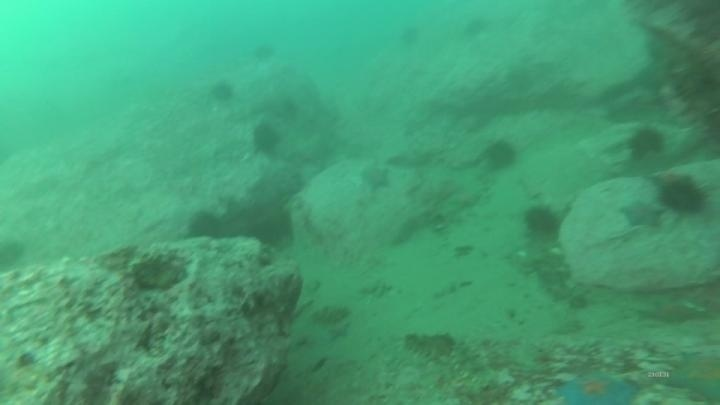echinus: (658, 175, 709, 218), (521, 203, 563, 239), (626, 125, 667, 161), (482, 137, 520, 174), (185, 209, 226, 243), (249, 121, 283, 157), (0, 236, 28, 274), (208, 78, 237, 106), (461, 15, 491, 41), (397, 23, 423, 49), (251, 40, 278, 64)
holothurian: (534, 241, 586, 304), (402, 329, 458, 362)
starfish: (552, 368, 640, 405), (666, 348, 720, 403), (263, 369, 334, 404), (635, 294, 707, 328), (617, 197, 666, 232), (357, 162, 394, 195), (649, 166, 694, 192)
